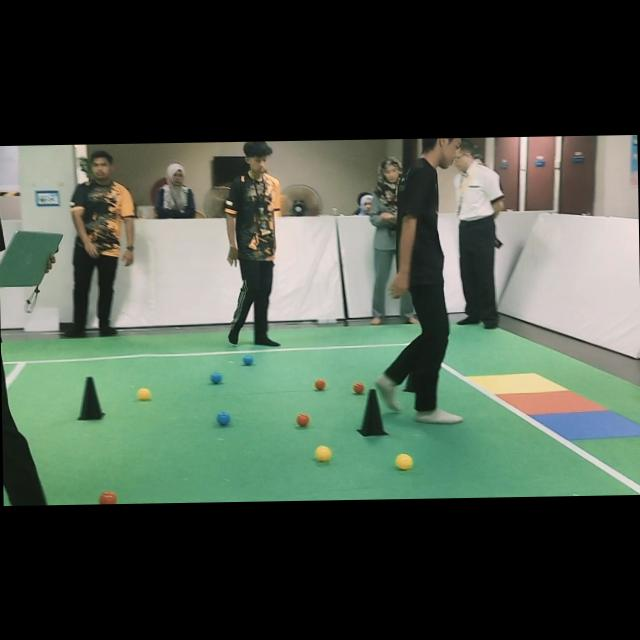ball: (98, 490, 117, 504), (315, 445, 331, 461), (295, 413, 309, 427), (217, 412, 230, 425), (137, 388, 151, 400), (314, 377, 326, 390), (352, 382, 365, 394), (210, 372, 222, 384), (242, 355, 252, 365)
goal: (532, 410, 640, 439), (499, 391, 607, 414), (466, 373, 567, 394)
